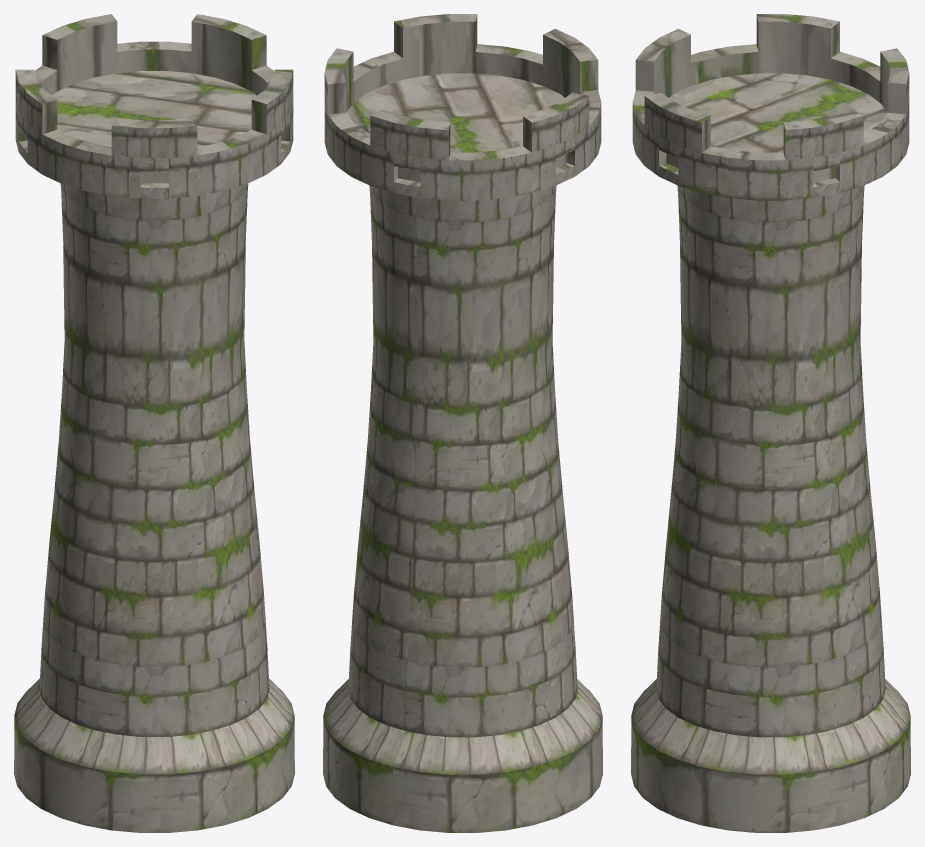
The model's file is torre.fbx.
The picture shows the model from 3 angles, left to right: view 1: azimuth 30°, elevation 25°; view 2: azimuth 150°, elevation 25°; view 3: azimuth 270°, elevation 25°; orthographic projection.
Parts seen in each view (by area): view 1: Cylinder; view 2: Cylinder; view 3: Cylinder.
Boxes of the visible parts, x1,y1,x2,y2 form: Cylinder: (14, 14, 294, 832); Cylinder: (323, 14, 602, 832); Cylinder: (631, 14, 910, 832).
Bounding box in the file's own units: 240 × 669 × 242.
Materials: 1 (1 with a texture image).
